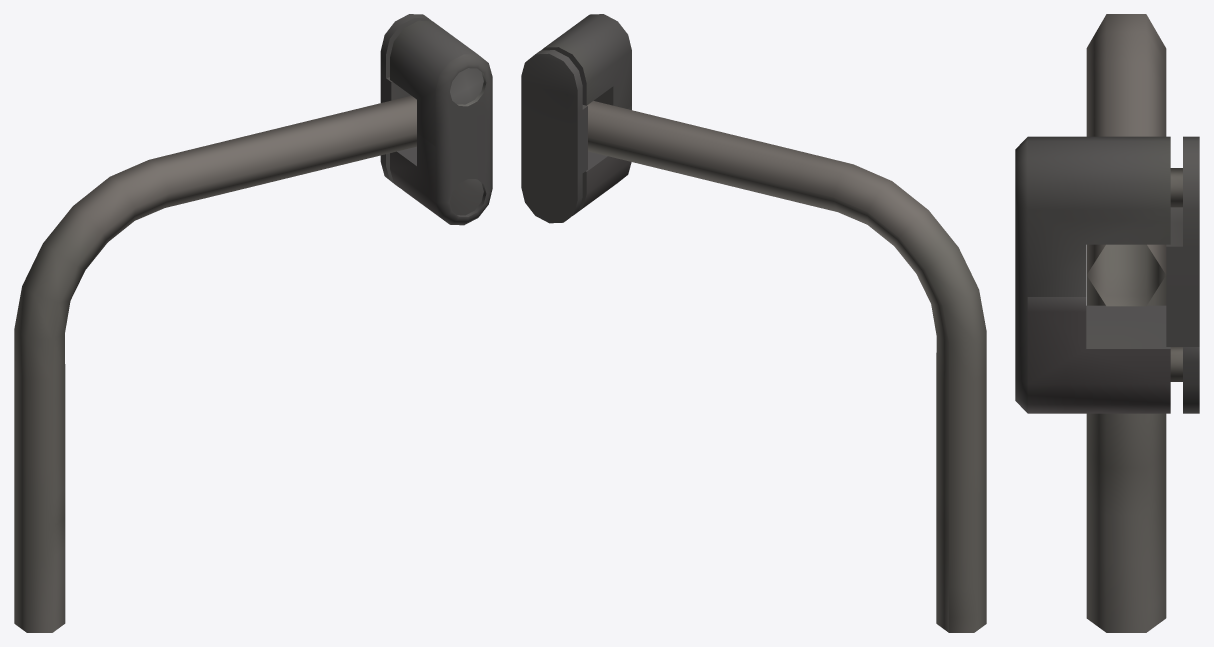
Rendered from wall-cable-bend--2.gltf.
The picture shows the model from 3 angles, left to right: view 1: azimuth 30°, elevation 25°; view 2: azimuth 150°, elevation 25°; view 3: azimuth 270°, elevation 25°; orthographic projection. The views are drawn at different scales.
Visible parts, largest first — view 1: cable_turn_short; view 2: cable_turn_short; view 3: cable_turn_short.
Boxes of the visible parts, <box> form: cable_turn_short: <box>14,14,492,632</box>; cable_turn_short: <box>521,14,986,632</box>; cable_turn_short: <box>1015,14,1199,632</box>.
Size of the model in its own units: 0.1121 by 0.1208 by 0.0259.
1 material, 1 textured.
